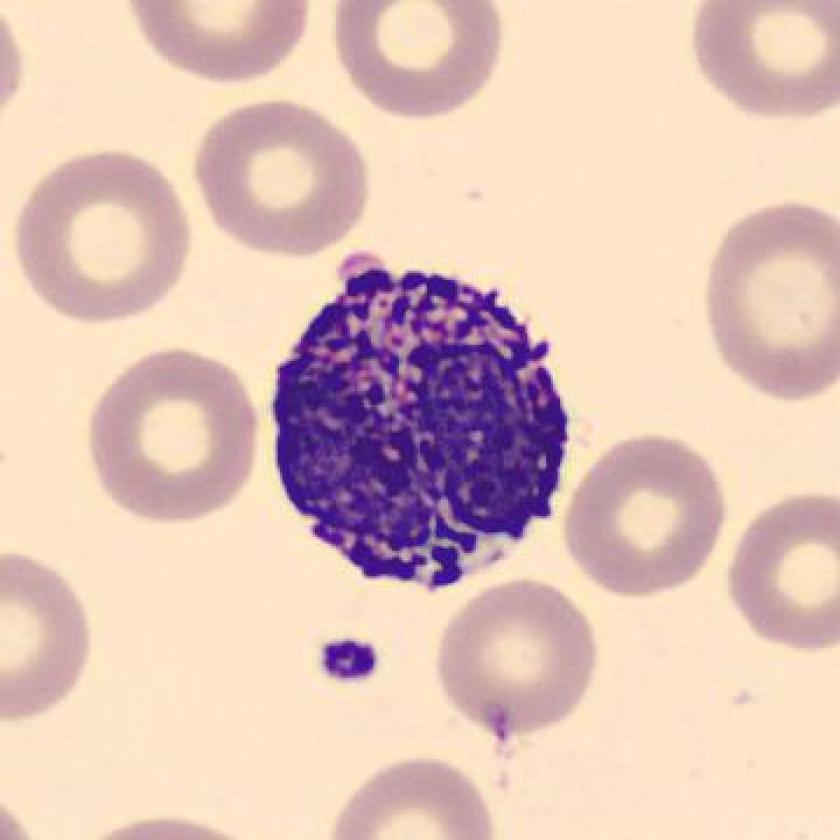basophil: (269, 246, 587, 596)
